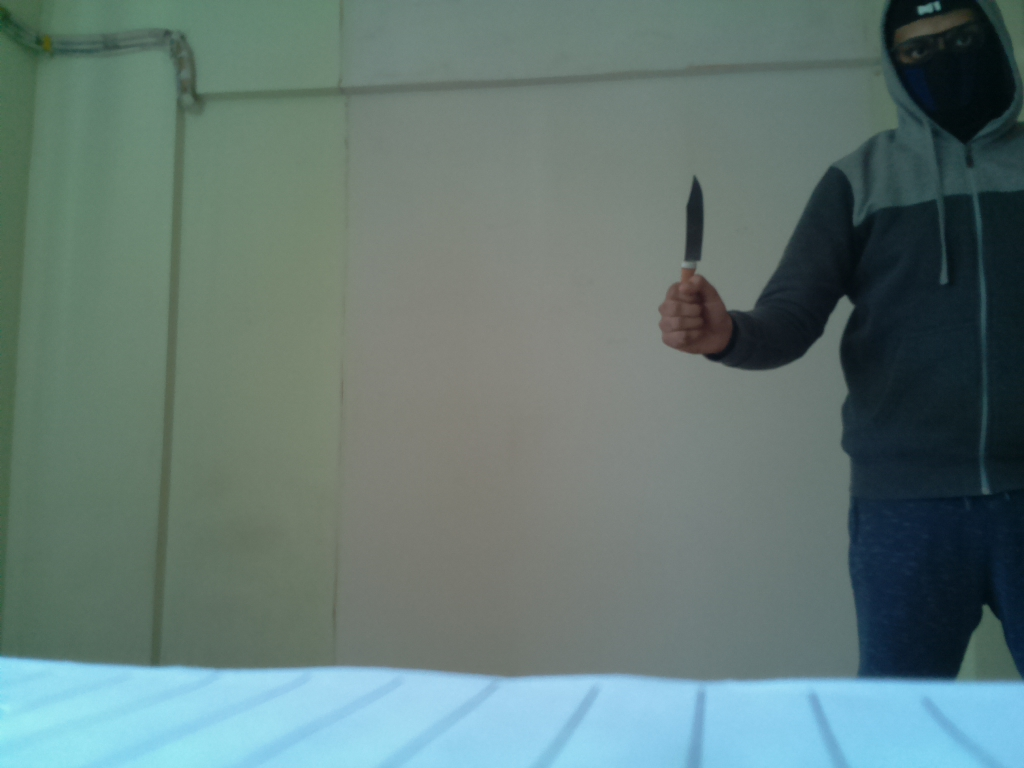knife: (671, 169, 712, 298)
